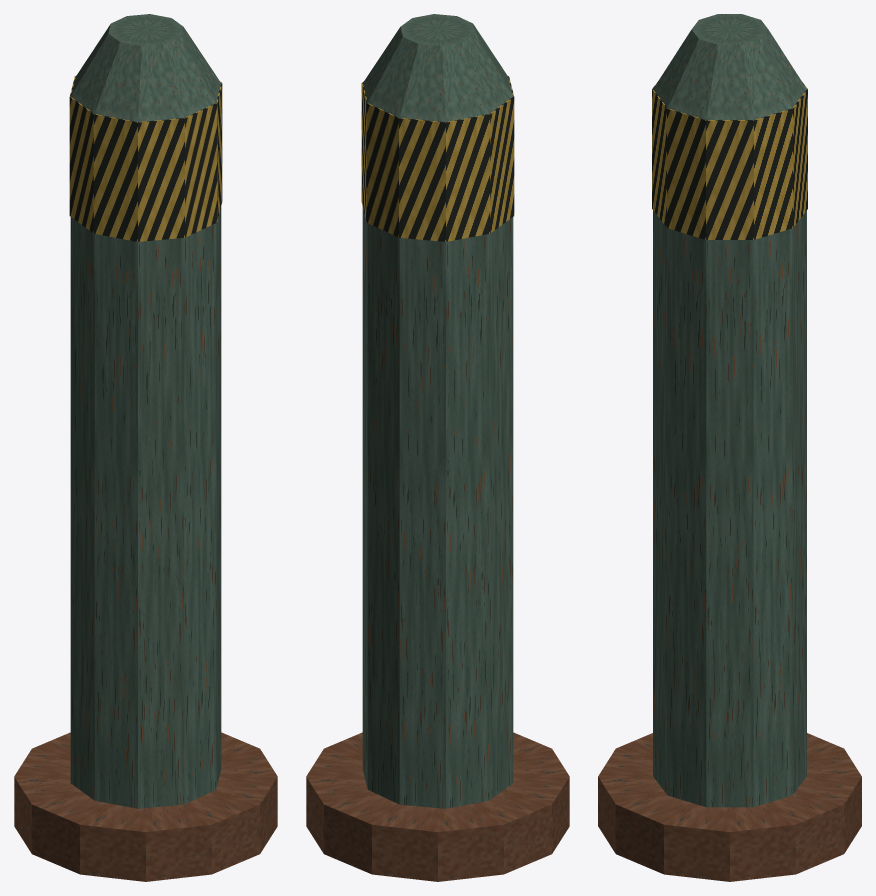
Rendered from Bollard.glb.
3 renders of one model, left to right at view 1: azimuth 30°, elevation 25°; view 2: azimuth 150°, elevation 25°; view 3: azimuth 270°, elevation 25°, orthographic.
Parts seen in each view (by area): view 1: Bollard; view 2: Bollard; view 3: Bollard.
Boxes of the visible parts, box(x1,y1,x2,y2) form: Bollard: box(14, 14, 277, 881); Bollard: box(306, 14, 569, 881); Bollard: box(598, 14, 861, 881).
Size of the model in its own units: 0.24 by 0.8 by 0.24.
Materials: 3 (3 with a texture image).
